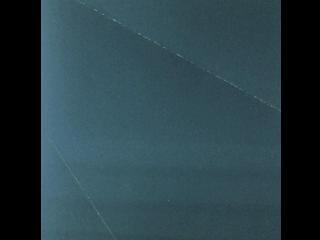crack: (75, 0, 281, 110), (40, 123, 115, 240)
